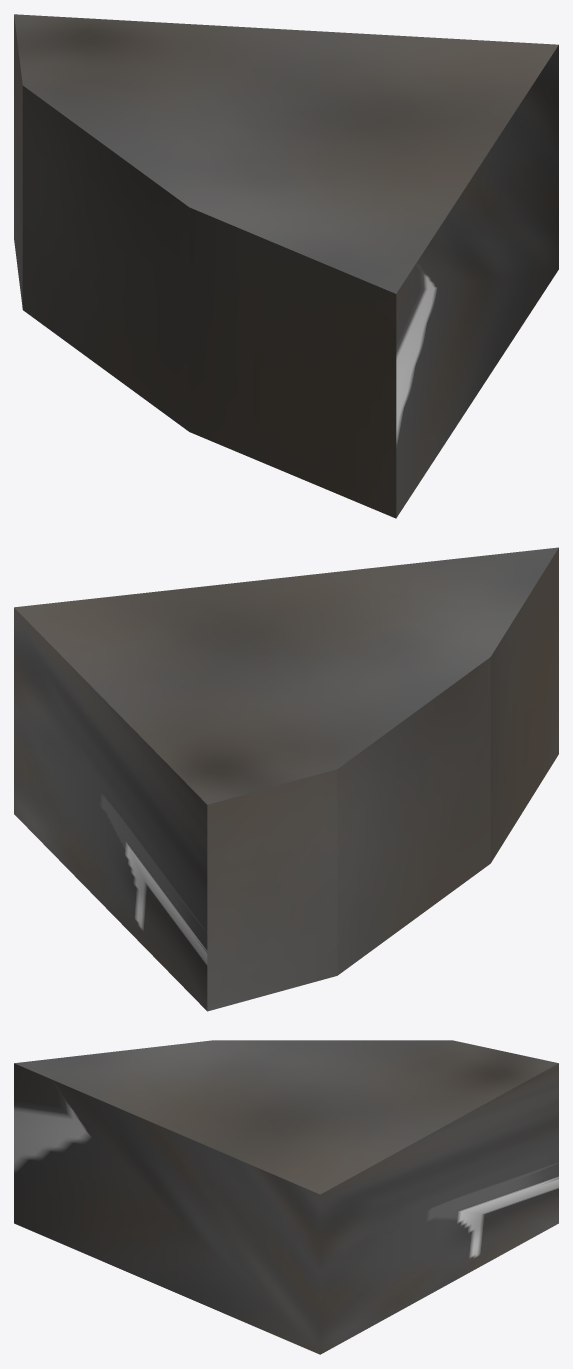
File: ishi_01_5_3.fbx
The picture shows the model from 3 angles, top to bottom: view 1: azimuth 30°, elevation 25°; view 2: azimuth 150°, elevation 25°; view 3: azimuth 270°, elevation 25°; orthographic projection. The views are drawn at different scales.
Parts seen in each view (by area): view 1: polySurface3; view 2: polySurface3; view 3: polySurface3.
Boxes of the visible parts, left/top/right/bottom form: polySurface3: left=14, top=14, right=558, bottom=518; polySurface3: left=14, top=547, right=558, bottom=1011; polySurface3: left=14, top=1040, right=558, bottom=1354.
Bounding box in the file's own units: 9.63 × 4.66 × 14.36.
1 material, 1 textured.
